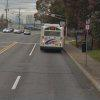Bus: (36, 19, 68, 55)
